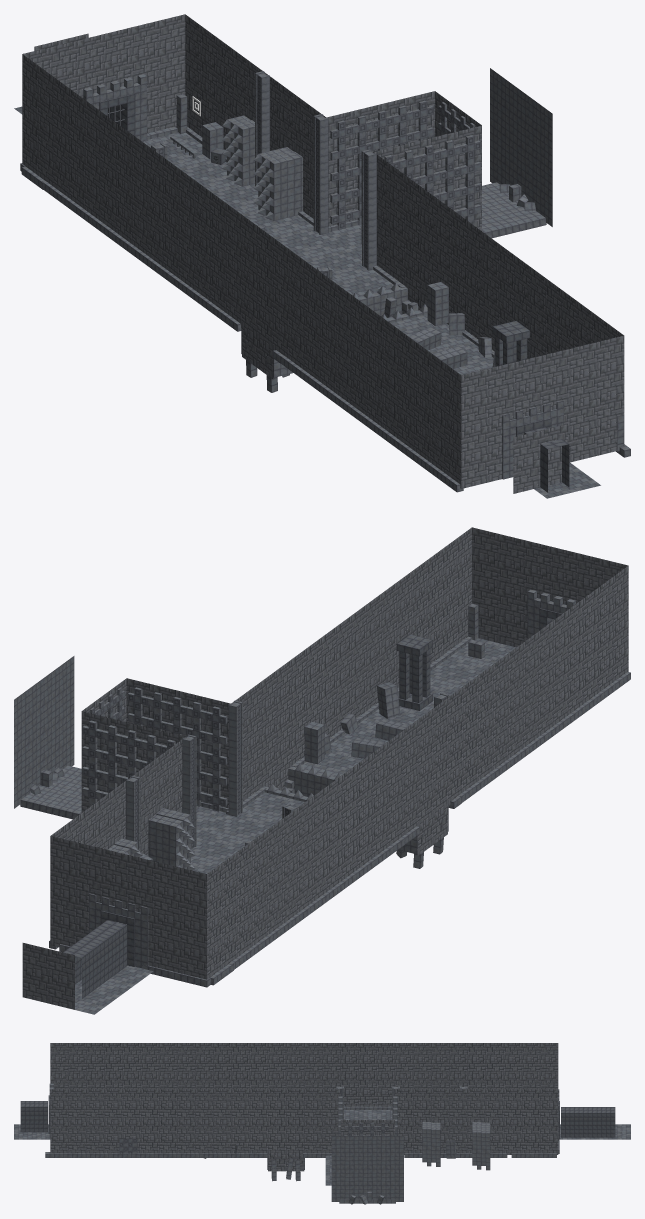
The model's file is Enviroments.fbx.
3 views of the same model, one above another, from view 1: azimuth 30°, elevation 25°; view 2: azimuth 150°, elevation 25°; view 3: azimuth 270°, elevation 25° (orthographic). The views are drawn at different scales.
Visible parts, largest first — view 1: Castle_Gate_4_Bars, Castle_Wall_11__1_, Castle_Gate_4_Bars_1, Castle_Ground___Bright_8x8__2_, Castle_Ground___Bright_8x8__3_, Castle_Ground___Bright_8x8__1_, Castle_Ground___Bright_8x8, Castle_Ground_X_Mix_8x8__13_, Castle_Tower_1_Empty, Castle_Ground_X_Mix_8x8__16_, Castle_Ground_X_Mix_8x8__19_, Castle_Wall_11__3_ (+40 smaller); view 2: Castle_Tower_1_Empty, Castle_Gate_4_Bars, Castle_Ground___Bright_8x8__2_, Castle_Ground___Bright_8x8__3_, Castle_Ground___Bright_8x8, Castle_Ground___Bright_8x8__1_, Castle_Wall_14__2_, Castle_Ground_X_Mix_8x8__16_, Castle_Gate_4_Bars_1, Castle_Ground_X_Mix_8x8__37_, Castle_Ground_X_Mix_8x8__13_, Castle_Ground_X_Mix_8x8__19_ (+35 smaller); view 3: Castle_Ground___Bright_8x8__2_, Castle_Ground___Bright_8x8__3_, Castle_Ground___Bright_8x8__1_, Castle_Ground___Bright_8x8, Castle_Ground_X_Mix_8x8__44_, Castle_Ground_X_Mix_8x8__18_, Castle_Wall_Tile__7__1, Castle_Wall_Tile__10__1, Castle_Wall_Tile__5__2, Castle_Wall_Tile__7__2, Castle_Wall_Tile__1__4, Castle_Wall_Tile__4__4 (+177 smaller).
Part boxes in pixels (<box>): Castle_Gate_4_Bars: <box>83,74,147,141</box>; Castle_Wall_11__1_: <box>265,154,302,220</box>; Castle_Gate_4_Bars_1: <box>502,400,563,479</box>; Castle_Ground___Bright_8x8__2_: <box>521,91,552,170</box>; Castle_Ground___Bright_8x8__3_: <box>490,68,521,146</box>; Castle_Ground___Bright_8x8__1_: <box>521,148,552,226</box>; Castle_Ground___Bright_8x8: <box>490,125,521,185</box>; Castle_Ground_X_Mix_8x8__13_: <box>265,221,341,253</box>; Castle_Tower_1_Empty: <box>492,320,529,366</box>; Castle_Ground_X_Mix_8x8__16_: <box>296,243,364,275</box>; Castle_Ground_X_Mix_8x8__19_: <box>332,267,393,296</box>; Castle_Wall_11__3_: <box>234,123,254,186</box>; Castle_Tower_1_Empty: <box>396,634,432,710</box>; Castle_Gate_4_Bars: <box>89,893,148,968</box>; Castle_Ground___Bright_8x8__2_: <box>44,656,74,731</box>; Castle_Ground___Bright_8x8__3_: <box>14,678,43,753</box>; Castle_Ground___Bright_8x8: <box>14,732,43,808</box>; Castle_Ground___Bright_8x8__1_: <box>44,710,74,772</box>; Castle_Wall_14__2_: <box>148,817,183,867</box>; Castle_Ground_X_Mix_8x8__16_: <box>201,815,275,845</box>; Castle_Gate_4_Bars_1: <box>527,589,575,639</box>; Castle_Ground_X_Mix_8x8__37_: <box>430,659,486,691</box>; Castle_Ground_X_Mix_8x8__13_: <box>191,835,244,867</box>; Castle_Ground_X_Mix_8x8__19_: <box>239,792,304,823</box>; Castle_Ground___Bright_8x8__2_: <box>331,1136,367,1168</box>; Castle_Ground___Bright_8x8__3_: <box>367,1136,403,1168</box>; Castle_Ground___Bright_8x8__1_: <box>331,1169,367,1201</box>; Castle_Ground___Bright_8x8: <box>367,1169,403,1201</box>; Castle_Ground_X_Mix_8x8__44_: <box>14,1124,50,1139</box>; Castle_Ground_X_Mix_8x8__18_: <box>344,1110,376,1119</box>; Castle_Wall_Tile__7__1: <box>522,1122,540,1138</box>; Castle_Wall_Tile__10__1: <box>540,1122,558,1138</box>; Castle_Wall_Tile__5__2: <box>431,1105,449,1121</box>; Castle_Wall_Tile__7__2: <box>449,1122,467,1138</box>; Castle_Wall_Tile__1__4: <box>268,1122,286,1138</box>; Castle_Wall_Tile__4__4: <box>286,1122,304,1138</box>.
Bounding box in the file's own units: 3804 × 1711 × 10200.
3 materials, 3 textured.
